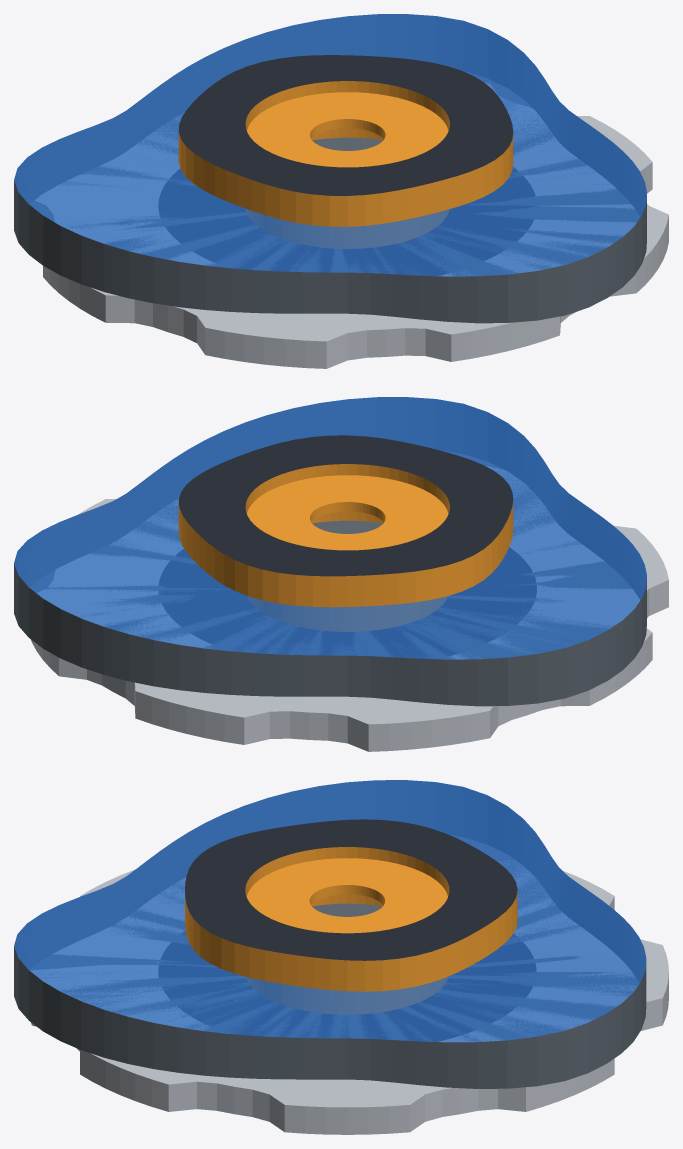
Rendered from assembly_phase2b_assist_guard.glb.
3 renders of one model, top to bottom at view 1: azimuth 30°, elevation 25°; view 2: azimuth 150°, elevation 25°; view 3: azimuth 270°, elevation 25°, orthographic.
Visible parts, largest first — view 1: GEO_blade_storm_fang_BODY, GEO_assist_guard_BODY, GEO_core_solar_wolf_BODY, GEO_core_solar_wolf_NSS_V1_COLLAR, GEO_blade_storm_fang_NSS_V1_COLLAR; view 2: GEO_blade_storm_fang_BODY, GEO_assist_guard_BODY, GEO_core_solar_wolf_BODY, GEO_core_solar_wolf_NSS_V1_COLLAR, GEO_blade_storm_fang_NSS_V1_COLLAR; view 3: GEO_blade_storm_fang_BODY, GEO_assist_guard_BODY, GEO_core_solar_wolf_BODY, GEO_core_solar_wolf_NSS_V1_COLLAR, GEO_blade_storm_fang_NSS_V1_COLLAR.
Boxes of the visible parts, x1,y1,x2,y2 form: GEO_blade_storm_fang_BODY: (14, 14, 646, 323); GEO_assist_guard_BODY: (35, 83, 668, 368); GEO_core_solar_wolf_BODY: (178, 55, 513, 226); GEO_core_solar_wolf_NSS_V1_COLLAR: (247, 92, 448, 167); GEO_blade_storm_fang_NSS_V1_COLLAR: (312, 137, 382, 150); GEO_blade_storm_fang_BODY: (14, 397, 646, 706); GEO_assist_guard_BODY: (31, 466, 668, 751); GEO_core_solar_wolf_BODY: (178, 435, 513, 607); GEO_core_solar_wolf_NSS_V1_COLLAR: (247, 475, 448, 550); GEO_blade_storm_fang_NSS_V1_COLLAR: (312, 520, 382, 533); GEO_blade_storm_fang_BODY: (14, 780, 646, 1088); GEO_assist_guard_BODY: (30, 860, 668, 1134); GEO_core_solar_wolf_BODY: (185, 819, 517, 991); GEO_core_solar_wolf_NSS_V1_COLLAR: (246, 858, 447, 933); GEO_blade_storm_fang_NSS_V1_COLLAR: (312, 903, 382, 916).
Bounding box in the file's own units: 0.0694 × 0.0237 × 0.0692.
